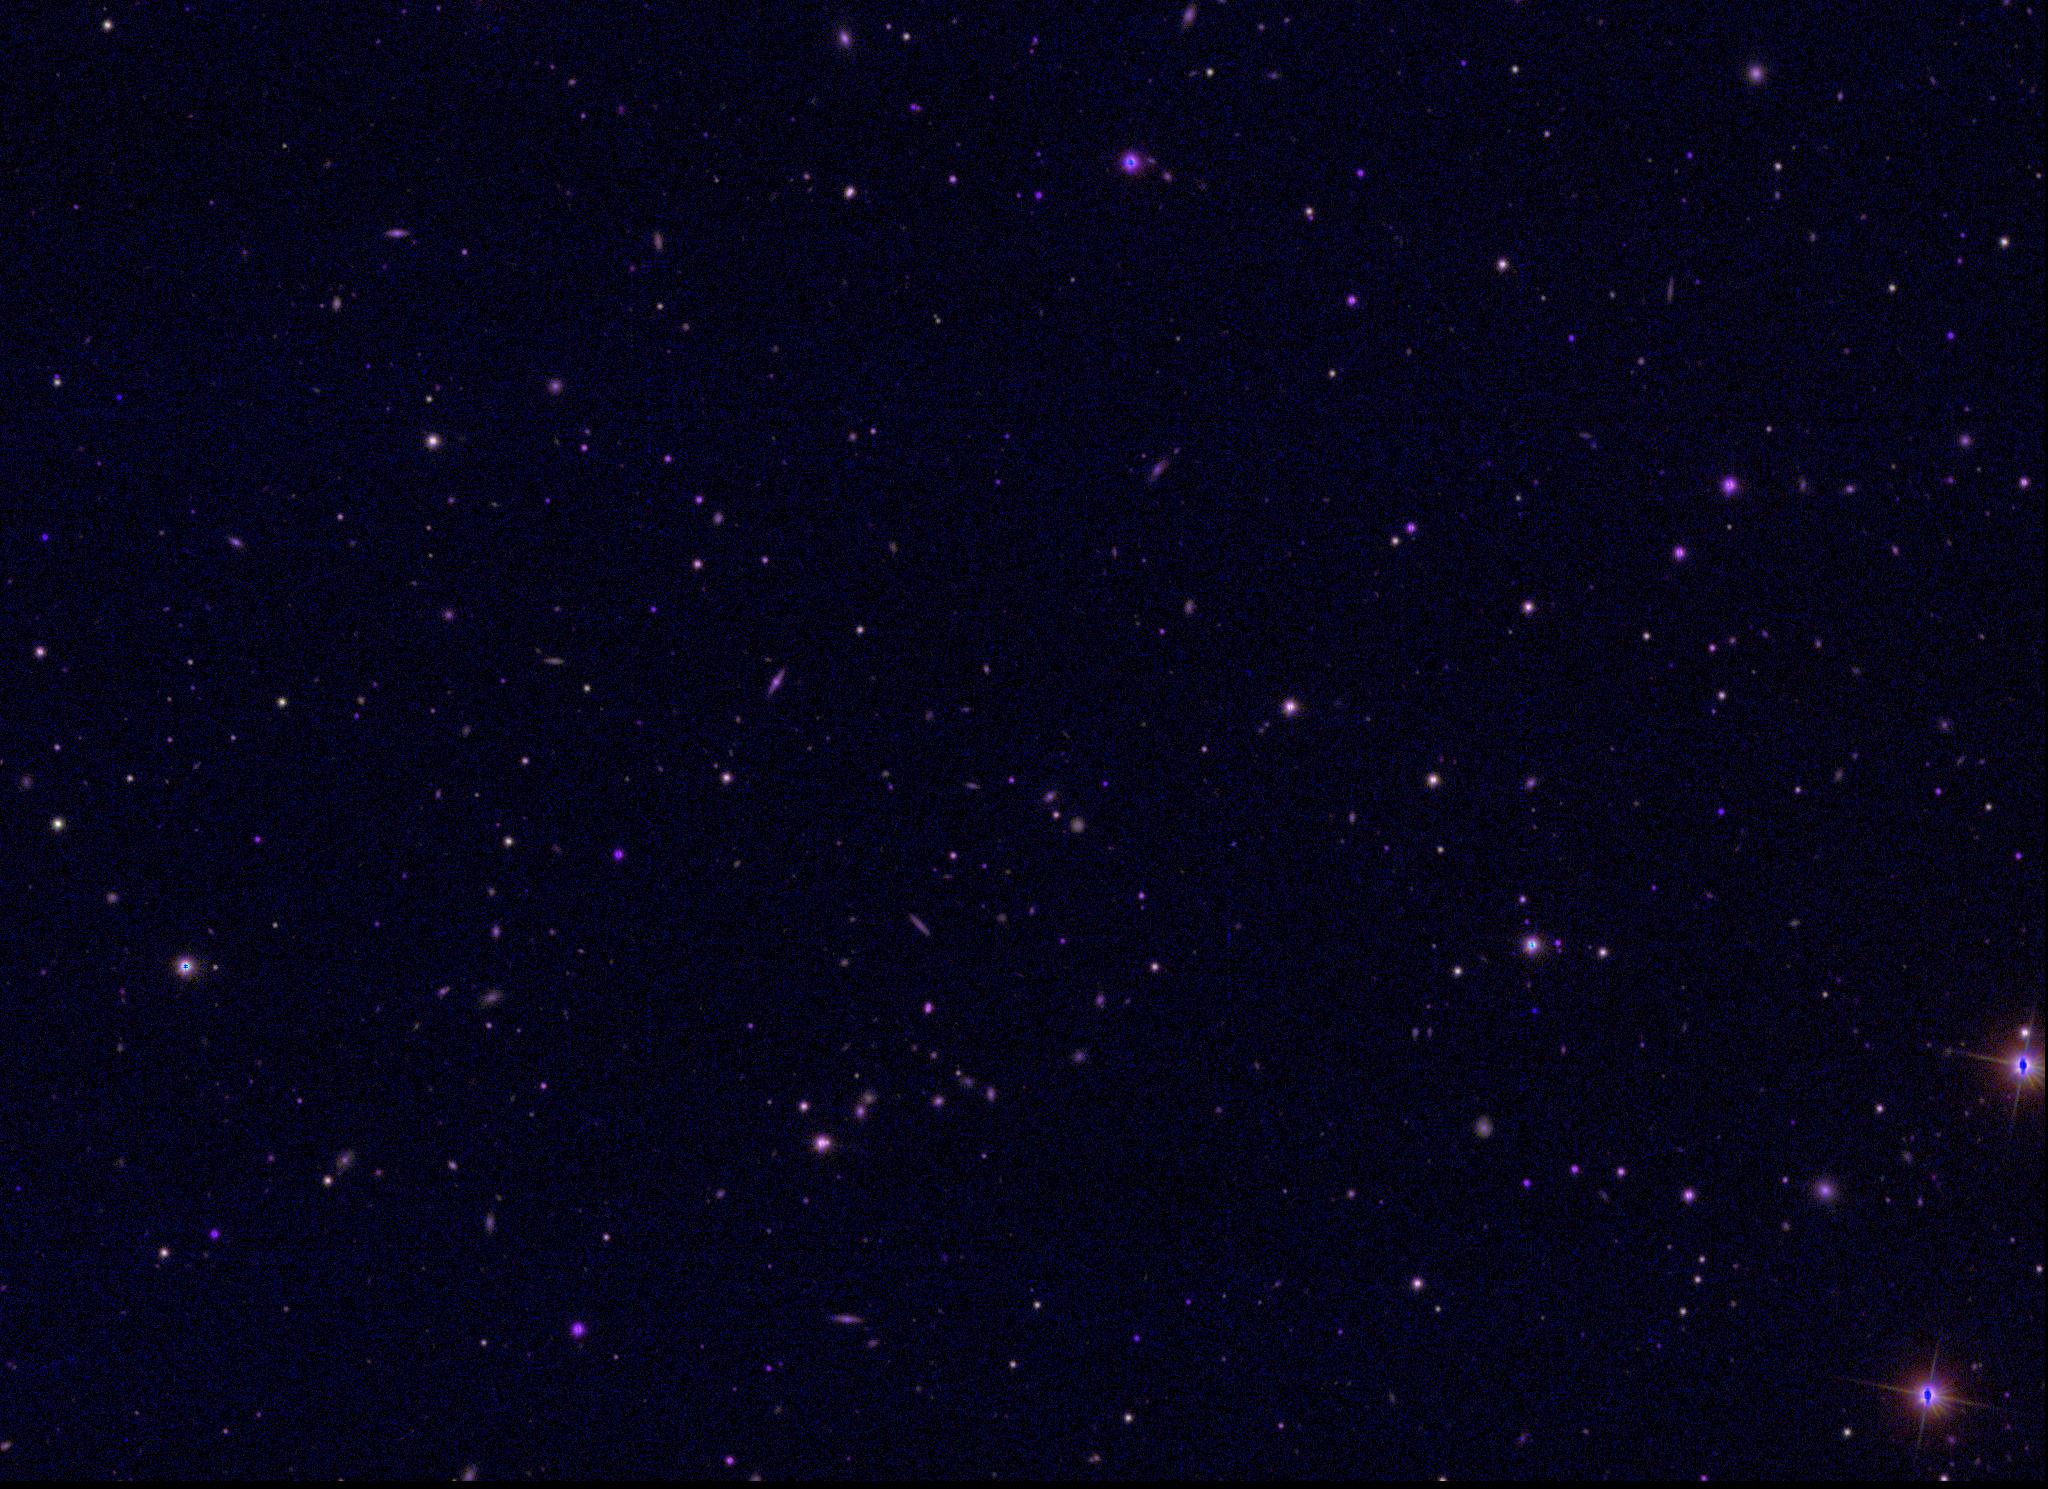L: (1526, 1002, 1541, 1017)
